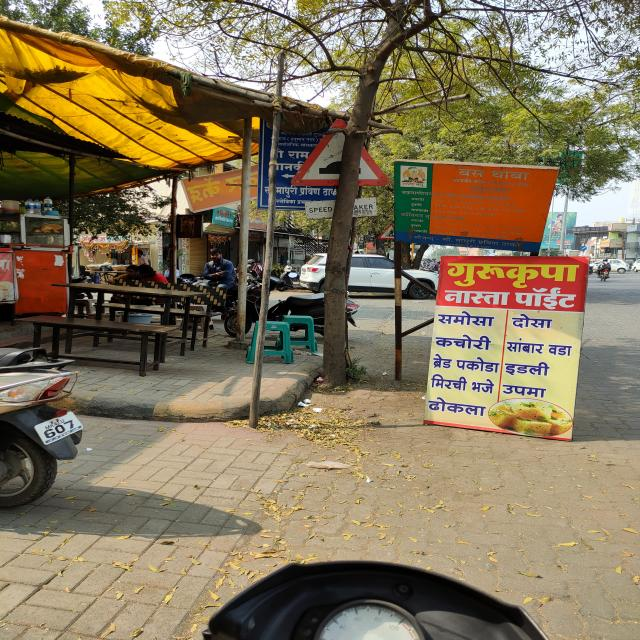HUMP_OR_ROUGH_ROAD: (292, 118, 389, 186)
